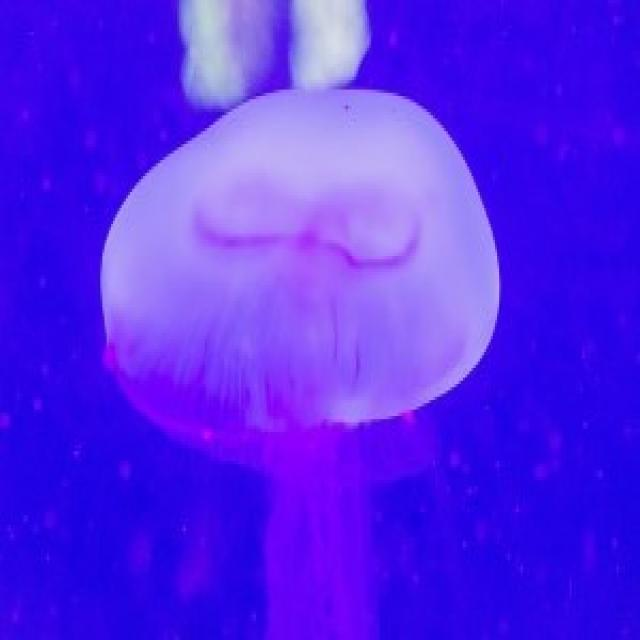Jellyfish: (79, 63, 508, 603)
